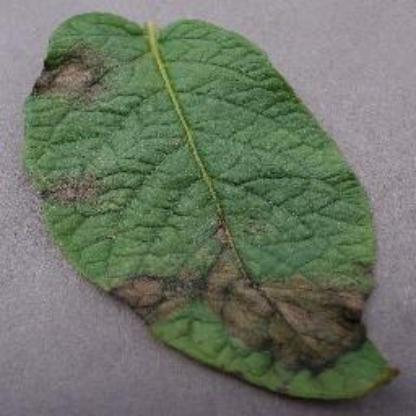Late-Blight: (14, 9, 410, 405)
